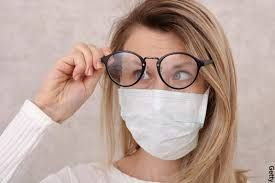with-mask: (101, 12, 221, 162)
